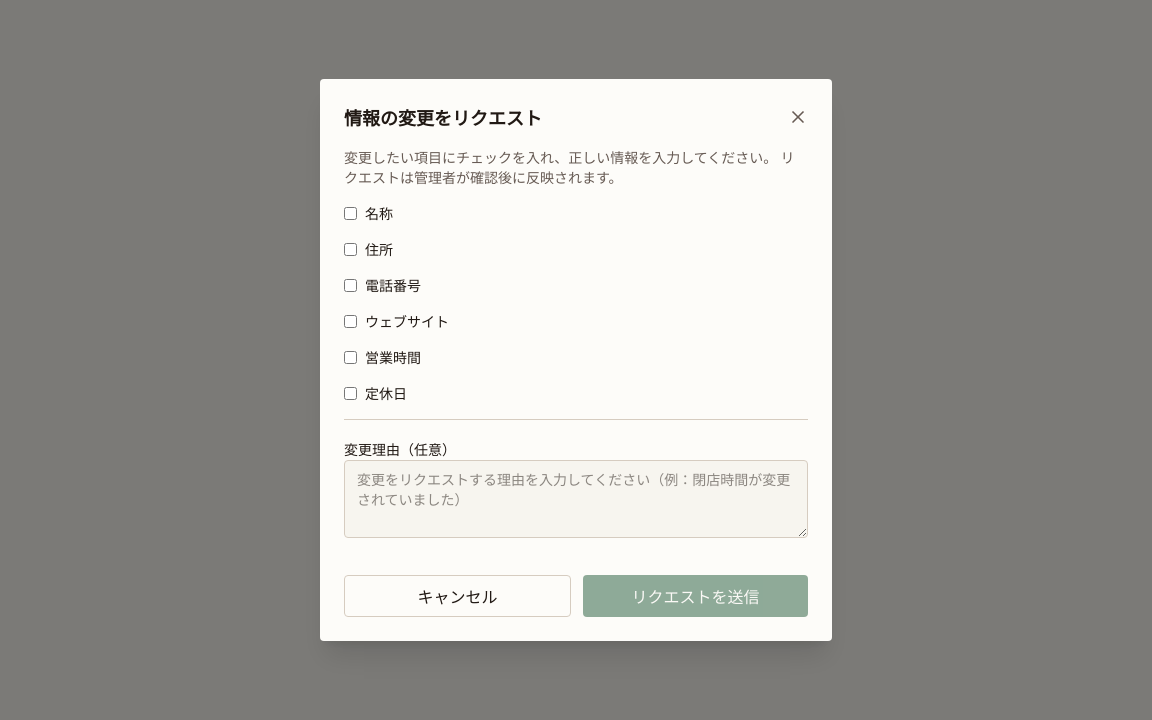
Test: ShopChangeRequestForm › チェックされたフィールドのみ入力欄を表示する
The image size is (1152, 720).
#  名称をチェック
Click the checkbox labelled "名称".
click(350, 213)  # box [344,206,357,220]
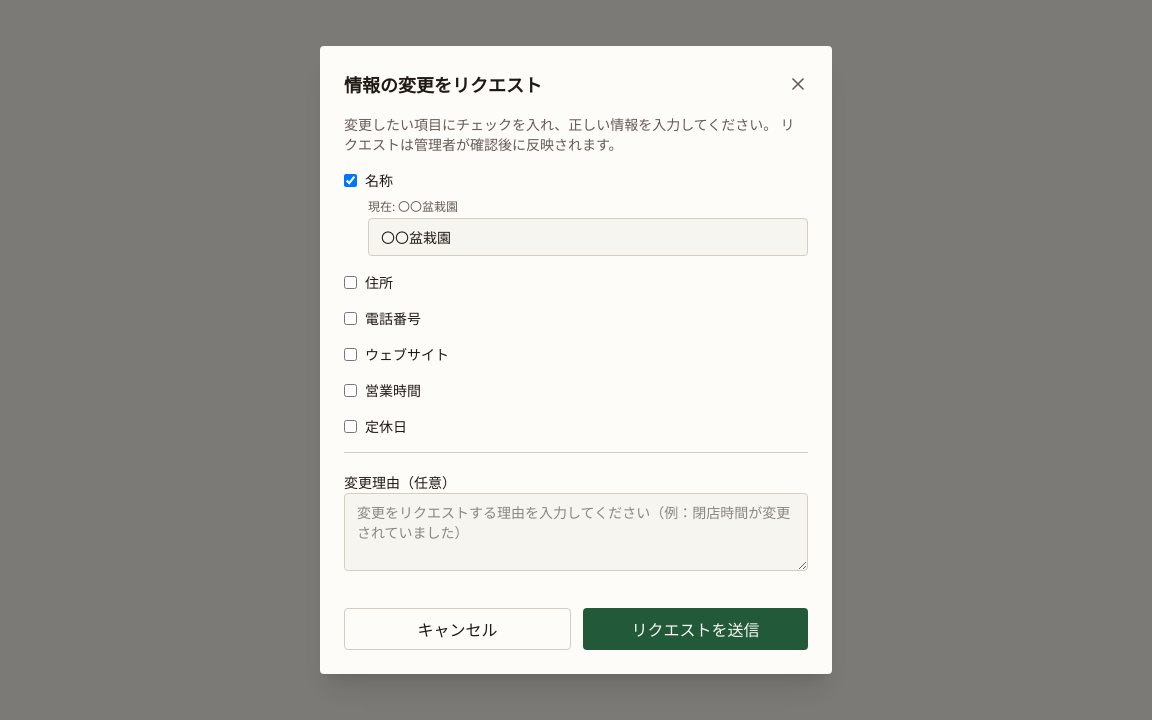
Expected: the field with placeholder "新しい名称" is shown, [368,218,808,256]
